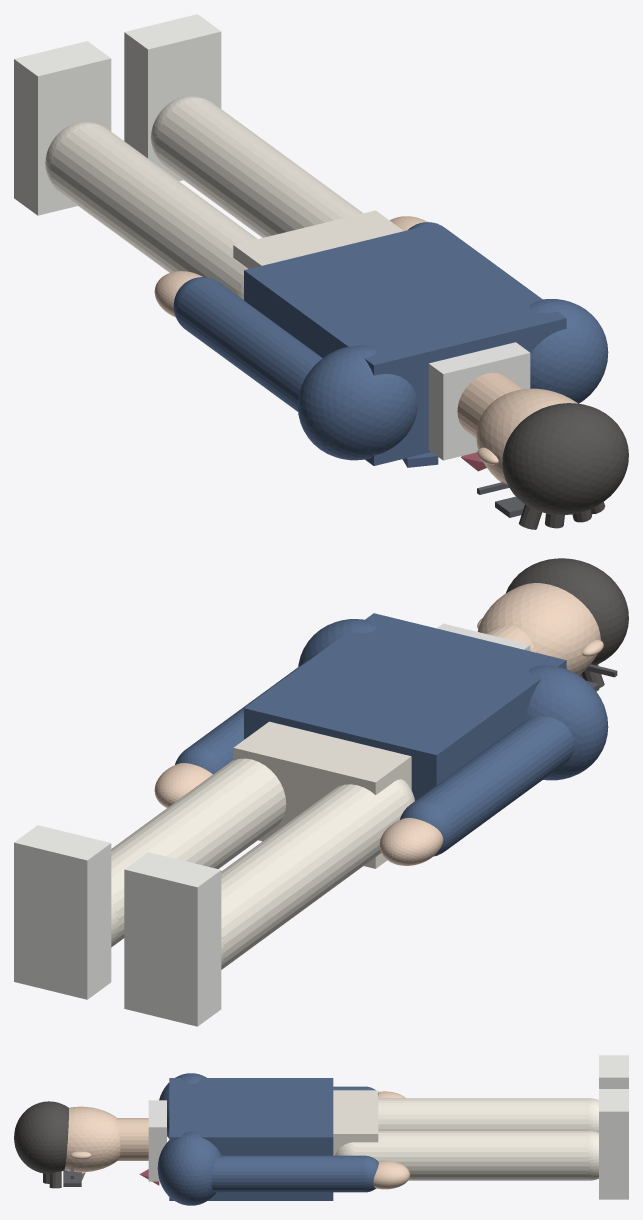
File: kiet-editorial-avatar.glb
3 renders of one model, top to bottom at view 1: azimuth 30°, elevation 25°; view 2: azimuth 150°, elevation 25°; view 3: azimuth 270°, elevation 25°, orthographic. The views are drawn at different scales.
Visible parts, largest first — view 1: blazer_torso, leg_L_shaft, leg_R_shaft, hair_mass, shoe_L, shoulder_L, shoe_R, arm_L_shaft, collar, shoulder_R, hips, head (+2 smaller); view 2: blazer_torso, leg_L_shaft, shoe_L, shoe_R, leg_R_shaft, hips, arm_L_shaft, head, shoulder_L, hair_mass, hand_L, hand_R (+5 smaller); view 3: blazer_torso, leg_R_shaft, leg_L_shaft, arm_R_shaft, shoulder_R, shoe_R, hair_mass, head, hips, neck, collar, shoe_L (+6 smaller).
Part boxes in pixels (x1,y1,x2,y2): blazer_torso: (244,223,566,465); leg_L_shaft: (50,124,257,294); leg_R_shaft: (156,99,362,237); hair_mass: (502,403,628,515); shoe_L: (14,41,111,215); shoulder_L: (298,345,417,460); shoe_R: (124,14,221,181); arm_L_shaft: (177,279,322,411); collar: (428,342,530,460); shoulder_R: (529,299,608,403); hips: (233,210,403,268); head: (476,388,577,484); blazer_torso: (244,613,566,855); leg_L_shaft: (221,782,408,969); shoe_L: (124,852,221,1026); shoe_R: (14,825,111,999); leg_R_shaft: (111,758,286,947); hips: (233,721,411,868); arm_L_shaft: (412,716,574,849); head: (477,583,600,674); shoulder_L: (525,665,608,780); hair_mass: (505,558,628,665); hand_L: (379,818,443,865); hand_R: (154,763,212,807); blazer_torso: (169,1078,333,1200); leg_R_shaft: (355,1130,588,1180); leg_L_shaft: (378,1098,588,1130); arm_R_shaft: (211,1155,364,1192); shoulder_R: (157,1131,221,1205); shoe_R: (599,1089,628,1199); hair_mass: (14,1101,68,1173); head: (64,1106,120,1172); hips: (333,1090,378,1155); neck: (116,1118,148,1160); collar: (148,1100,166,1181); shoe_L: (599,1055,628,1088).
Size of the model in its own units: 0.65 by 0.338 by 1.84.
